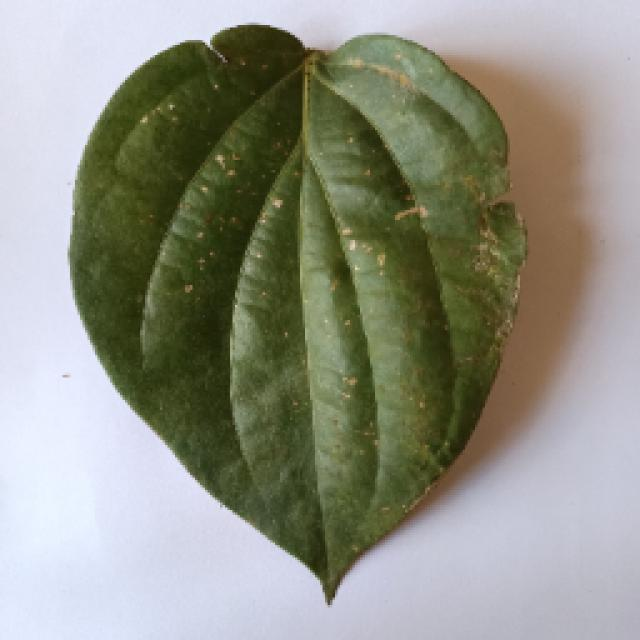pollu-disease: (40, 40, 572, 608)
